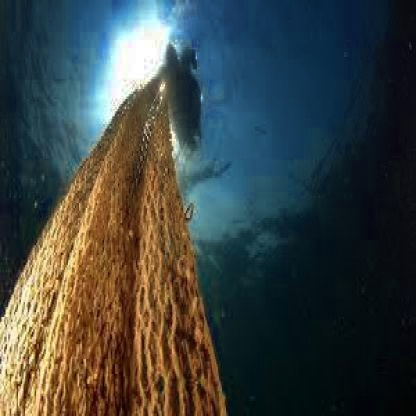net: (3, 89, 227, 416)
